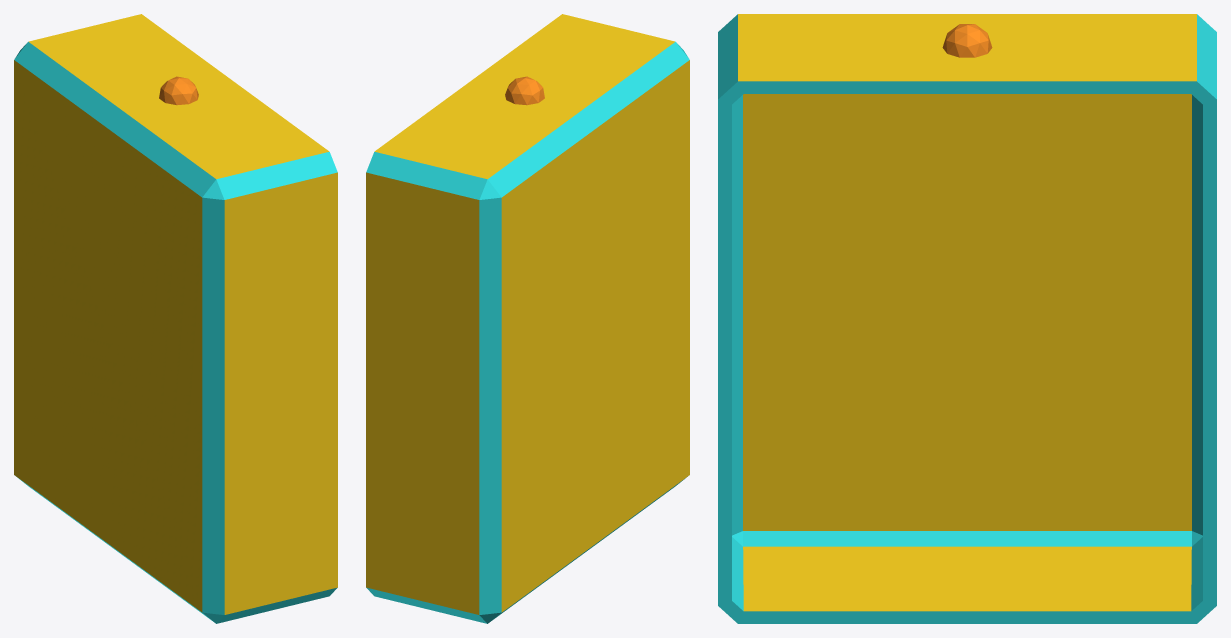
File: Breaker_Box_Busted_2.fbx
3 renders of one model, left to right at view 1: azimuth 30°, elevation 25°; view 2: azimuth 150°, elevation 25°; view 3: azimuth 270°, elevation 25°, orthographic. The views are drawn at different scales.
Parts seen in each view (by area): view 1: Breaker_Box, Icosphere; view 2: Breaker_Box, Icosphere; view 3: Breaker_Box, Icosphere.
Boxes of the visible parts, box(x1,y1,x2,y2) form: Breaker_Box: box(14, 14, 337, 623); Icosphere: box(159, 76, 198, 105); Breaker_Box: box(366, 14, 689, 623); Icosphere: box(505, 76, 544, 105); Breaker_Box: box(718, 14, 1216, 623); Icosphere: box(942, 24, 992, 57).
Bounding box in the file's own units: 36 × 125 × 100.
